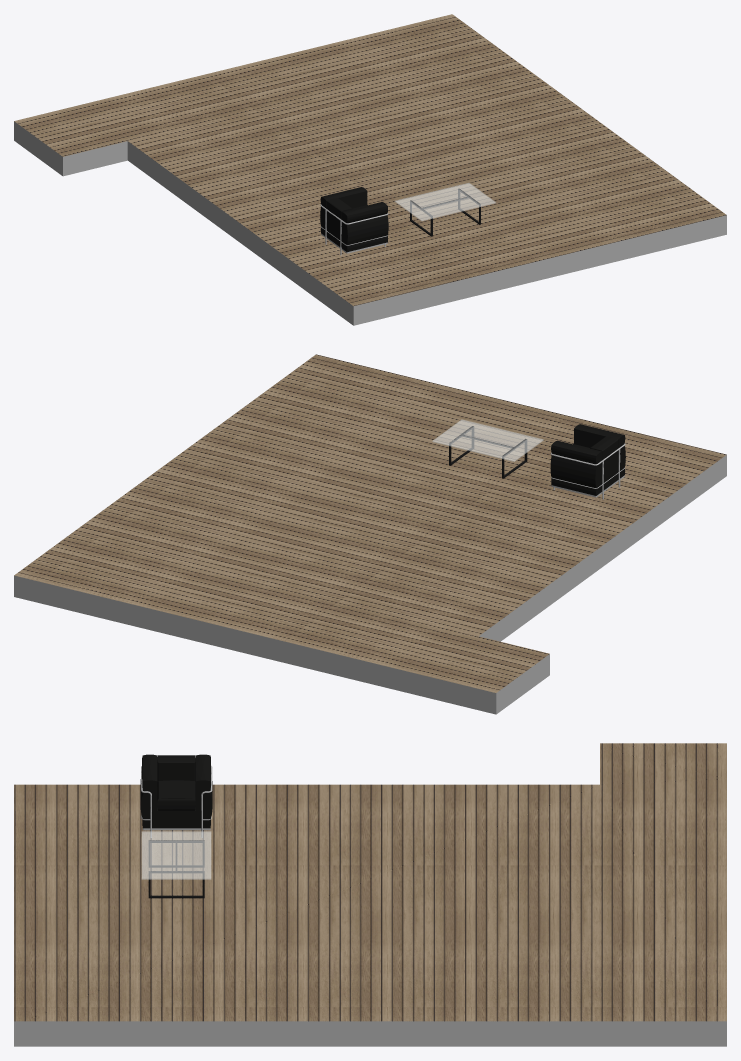
Rendered from 2496_sofa.obj.
The picture shows the model from 3 angles, top to bottom: view 1: azimuth 30°, elevation 25°; view 2: azimuth 150°, elevation 25°; view 3: azimuth 270°, elevation 25°; orthographic projection. The views are drawn at different scales.
Visible parts, largest first — view 1: UNITY_Plafond_Planche_Cedre, UNITY_Gris, Herman_Miller_-_Seat_Fabric_2109_Leather, Glass_-_Clear,_Grey, UNITY_Aluminex_Frame; view 2: UNITY_Plafond_Planche_Cedre, UNITY_Gris, Herman_Miller_-_Seat_Fabric_2109_Leather, Glass_-_Clear,_Grey, UNITY_Aluminex_Frame, ChromeGris; view 3: UNITY_Plafond_Planche_Cedre, UNITY_Gris, Herman_Miller_-_Seat_Fabric_2109_Leather, Glass_-_Clear,_Grey, UNITY_Aluminex_Frame, ChromeGris.
Part boxes in pixels (x1,y1,x2,y2): UNITY_Plafond_Planche_Cedre: (14,14,726,306); UNITY_Gris: (14,121,726,325); Herman_Miller_-_Seat_Fabric_2109_Leather: (320,187,388,252); Glass_-_Clear,_Grey: (395,183,495,220); UNITY_Aluminex_Frame: (410,188,480,236); UNITY_Plafond_Planche_Cedre: (14,354,726,692); UNITY_Gris: (14,455,726,714); Herman_Miller_-_Seat_Fabric_2109_Leather: (550,424,625,495); Glass_-_Clear,_Grey: (432,419,543,461); UNITY_Aluminex_Frame: (449,426,527,478); ChromeGris: (550,443,625,499); UNITY_Plafond_Planche_Cedre: (14,743,726,1021); UNITY_Gris: (14,1021,726,1046); Herman_Miller_-_Seat_Fabric_2109_Leather: (140,754,212,828); Glass_-_Clear,_Grey: (141,831,211,879); UNITY_Aluminex_Frame: (148,840,204,898); ChromeGris: (141,765,212,837).
Size of the model in its own units: 23.5 by 3.27 by 25.5.
Materials: 7 (1 with a texture image).
